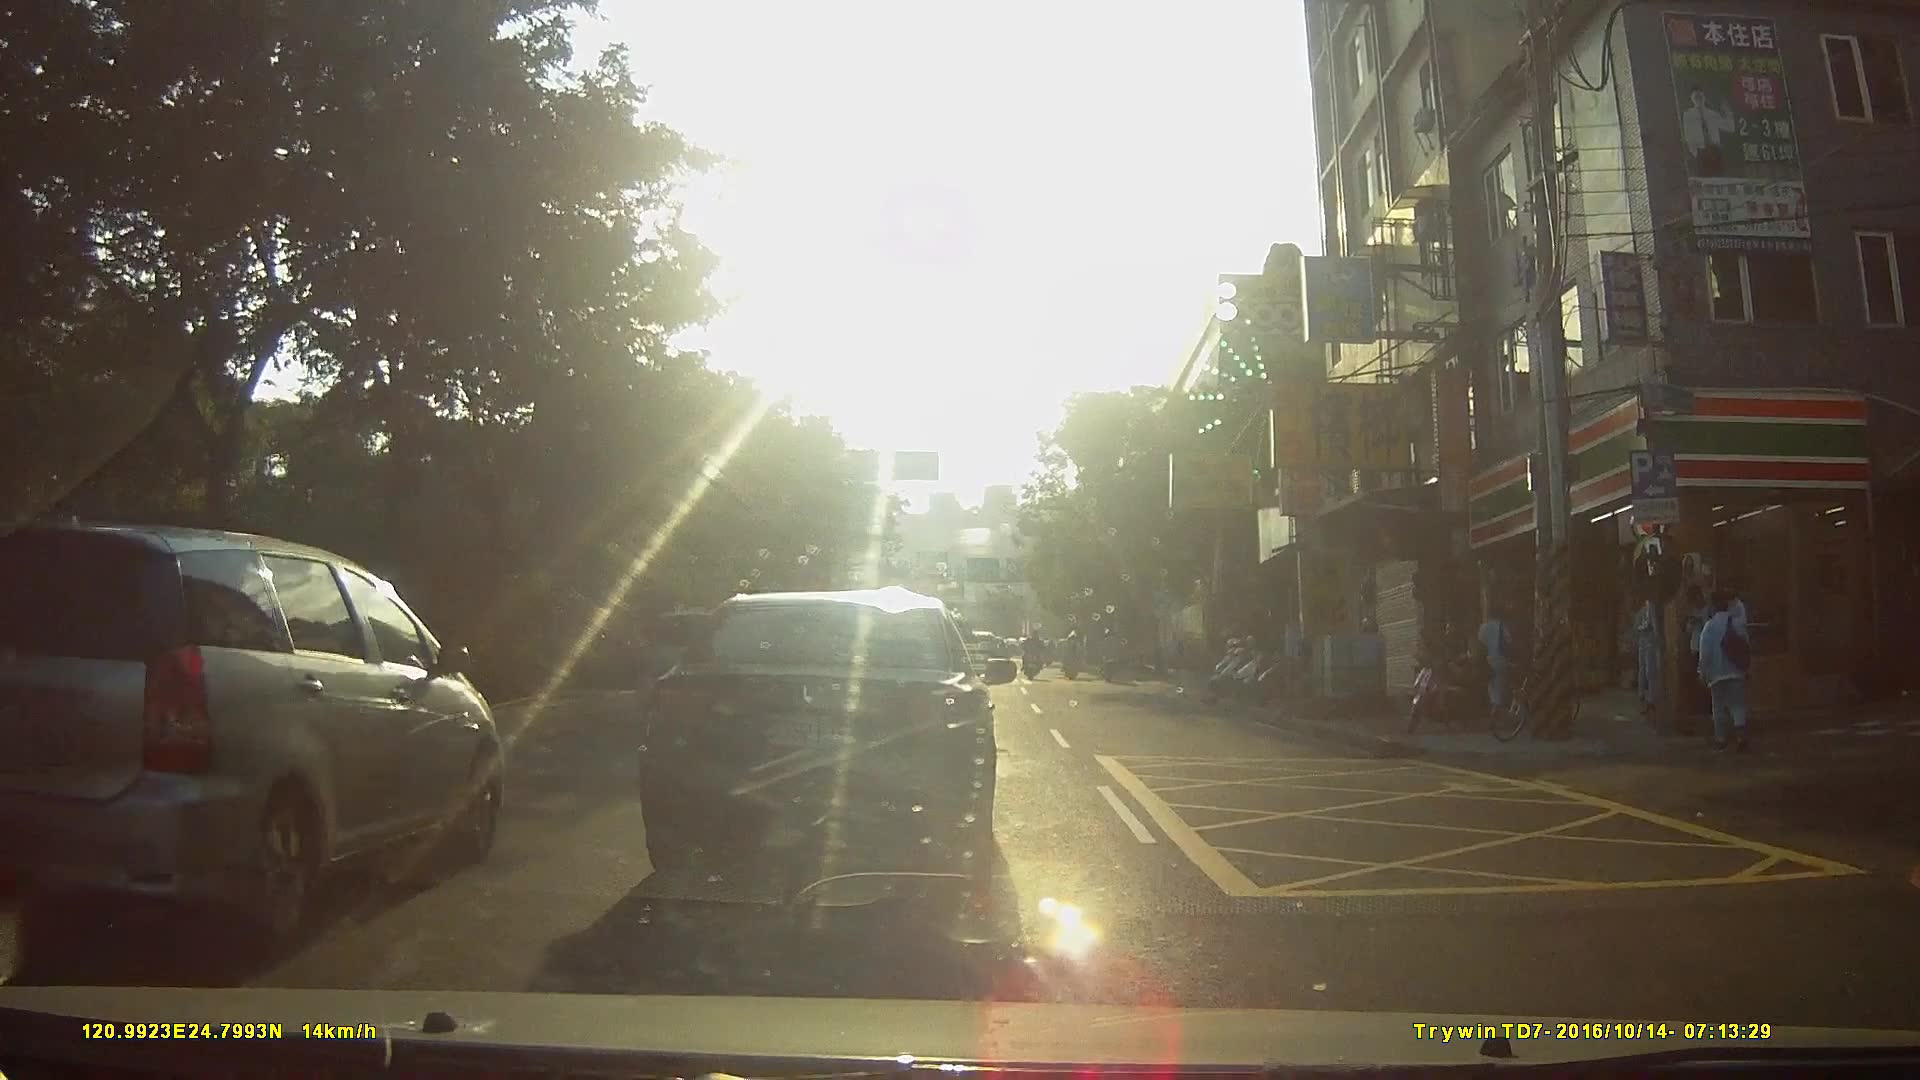pedestrian: (1701, 591, 1760, 756), (1474, 606, 1526, 717), (1689, 573, 1725, 712), (1618, 583, 1655, 708)
rider: (1062, 624, 1090, 686), (1097, 625, 1123, 688), (1022, 629, 1050, 681)
vehicle: (1, 533, 540, 918), (596, 576, 1030, 888)
